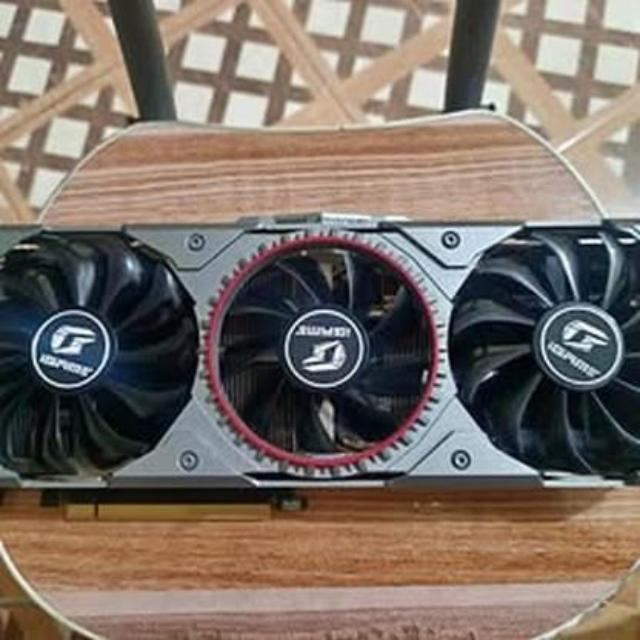GPU: (0, 206, 640, 528)
